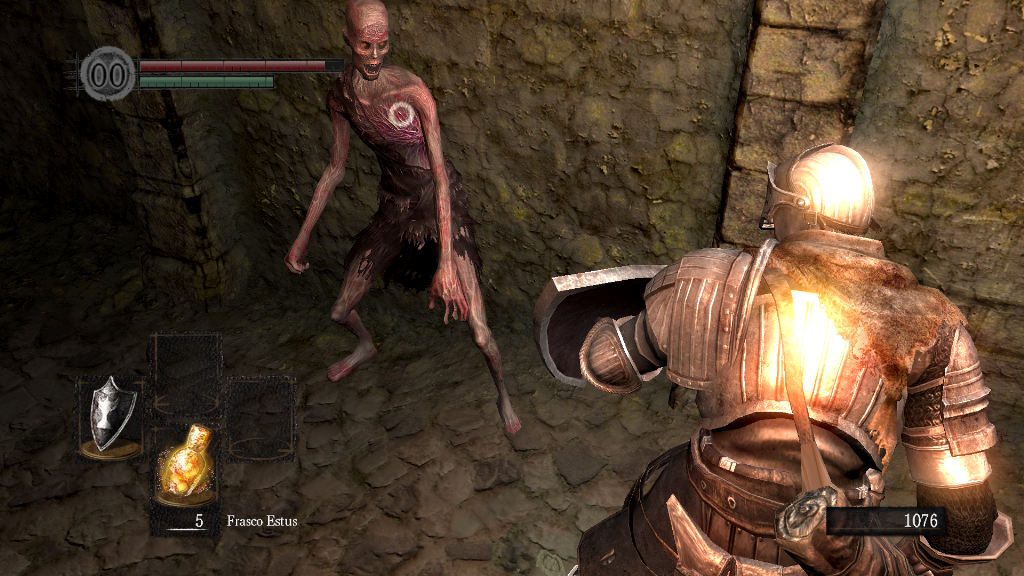health: (138, 58, 343, 71)
hollow: (282, 1, 526, 436)
humanity: (80, 45, 136, 102)
player: (531, 145, 1016, 576)
souls: (825, 506, 945, 536)
stamina: (138, 74, 274, 88)
